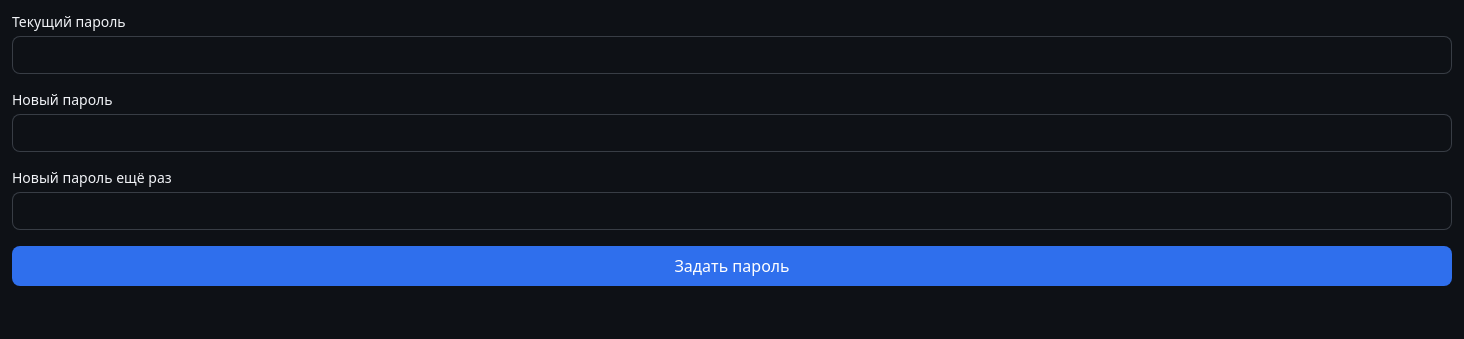
it: смена пароля › неверный текущий пароль показывает отказ сервера и никуда не уводит
In the password field labelled "Текущий пароль": (732, 55) left=12, top=36, right=1452, bottom=74, type "not-the-one-1"
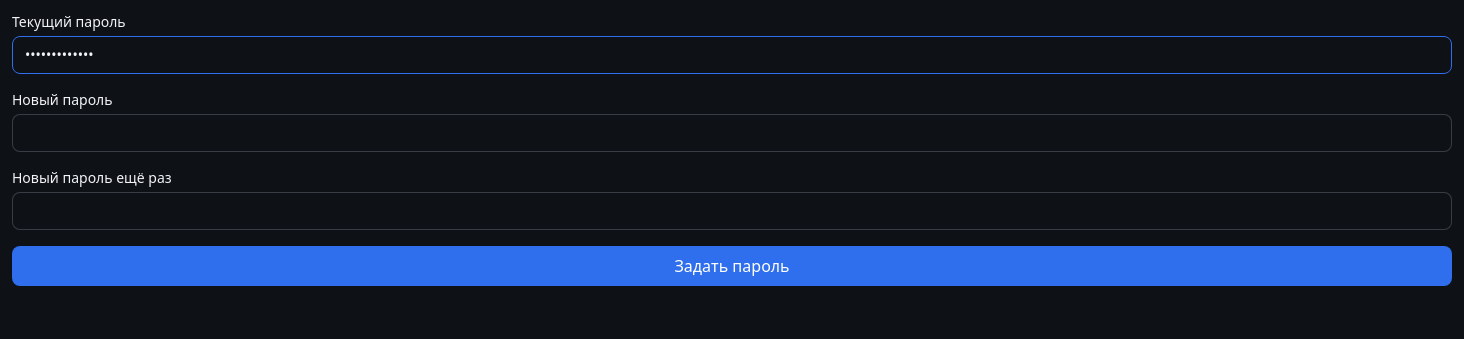
In the password field labelled "Новый пароль": (732, 133) left=12, top=114, right=1452, bottom=152, type "my-own-password-1"
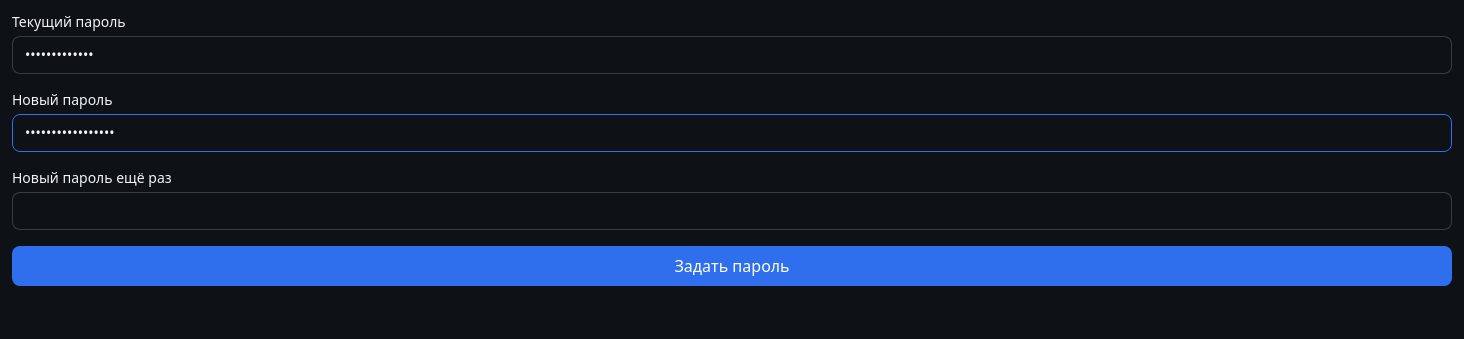
In the password field labelled "Новый пароль ещё раз": (732, 211) left=12, top=192, right=1452, bottom=230, type "my-own-password-1"
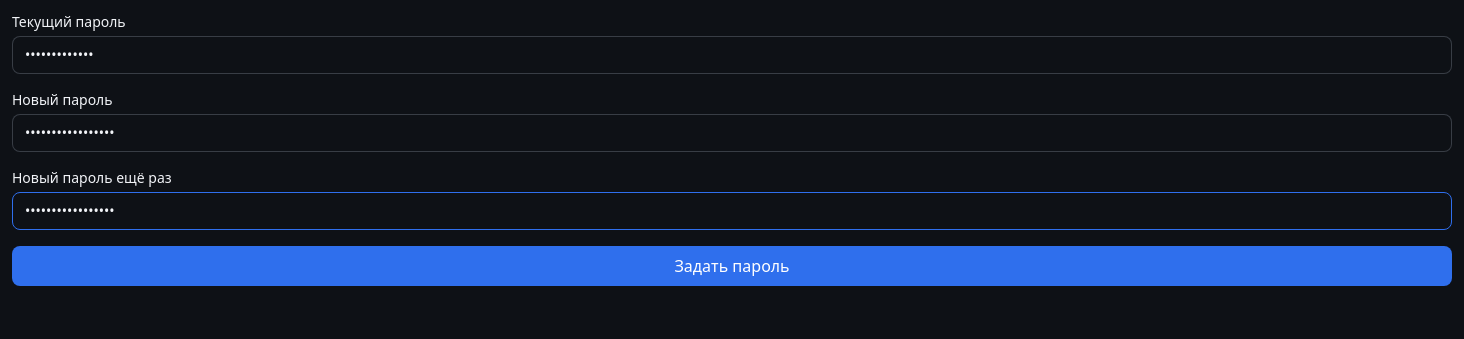
Click the button "Задать пароль": click(732, 266) left=12, top=246, right=1452, bottom=286
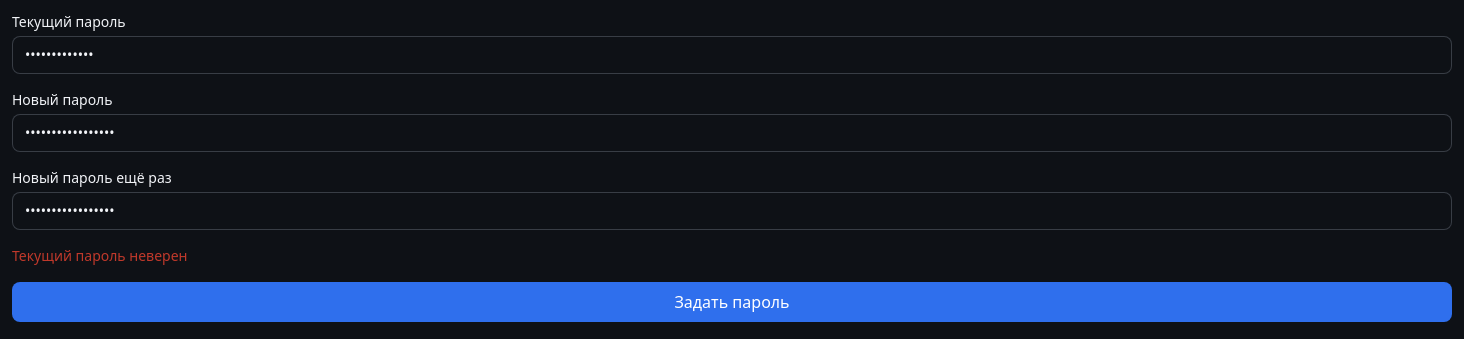
Check: the message reads "Текущий пароль неверен", box left=12, top=246, right=188, bottom=265
